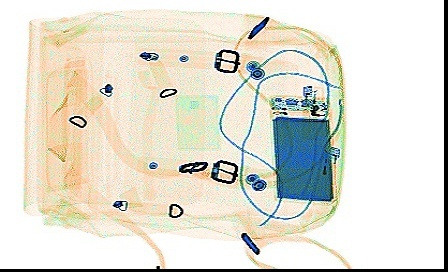lighter: (318, 144, 339, 209), (300, 82, 318, 136)
